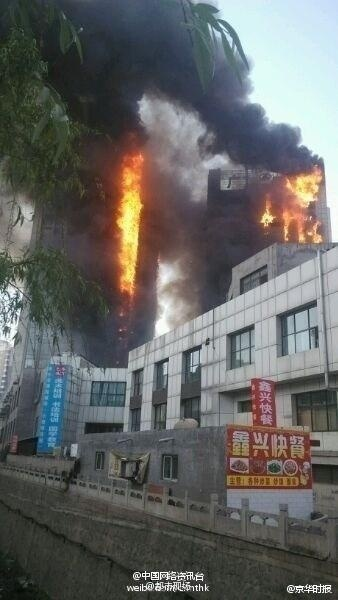fire: (259, 170, 326, 243), (113, 146, 144, 297)
